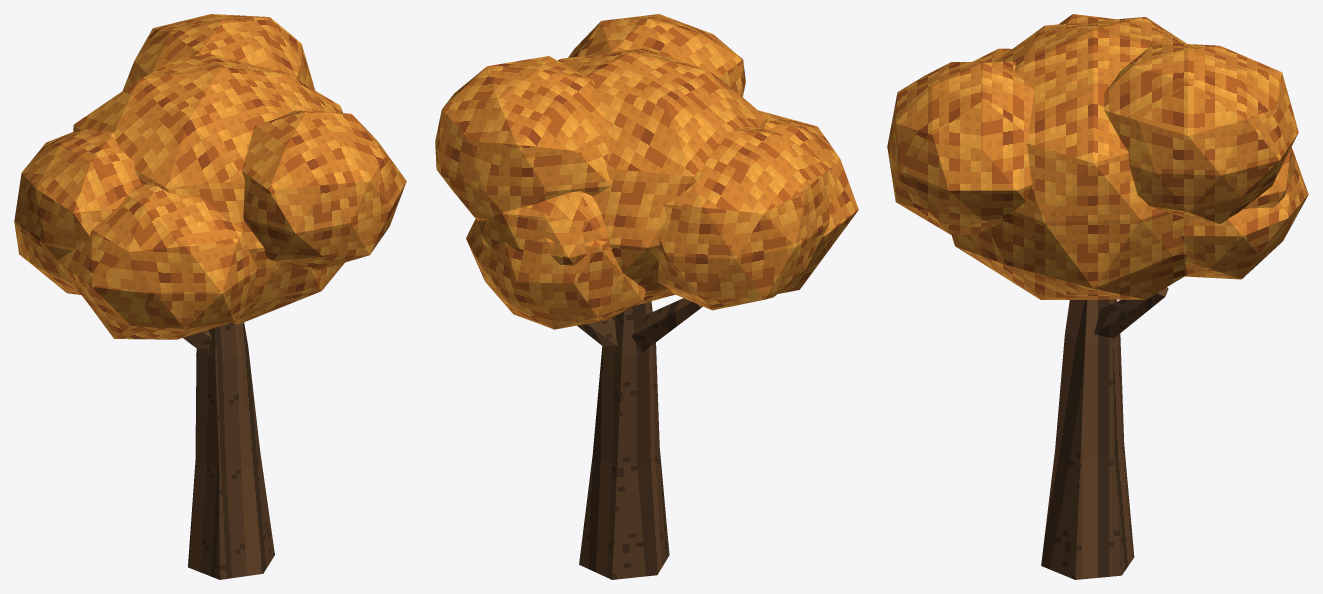
The model's file is autumn0.glb.
3 views of the same model, side by side, from view 1: azimuth 30°, elevation 25°; view 2: azimuth 150°, elevation 25°; view 3: azimuth 270°, elevation 25° (orthographic). The views are drawn at different scales.
Visible parts, largest first — view 1: autumn0; view 2: autumn0; view 3: autumn0.
Part boxes in pixels (<box>): autumn0: <box>14,14,406,579</box>; autumn0: <box>435,14,858,579</box>; autumn0: <box>887,14,1308,579</box>.
Bounding box in the file's own units: 4.52 × 6.9 × 4.95.
Materials: 2 (2 with a texture image).
